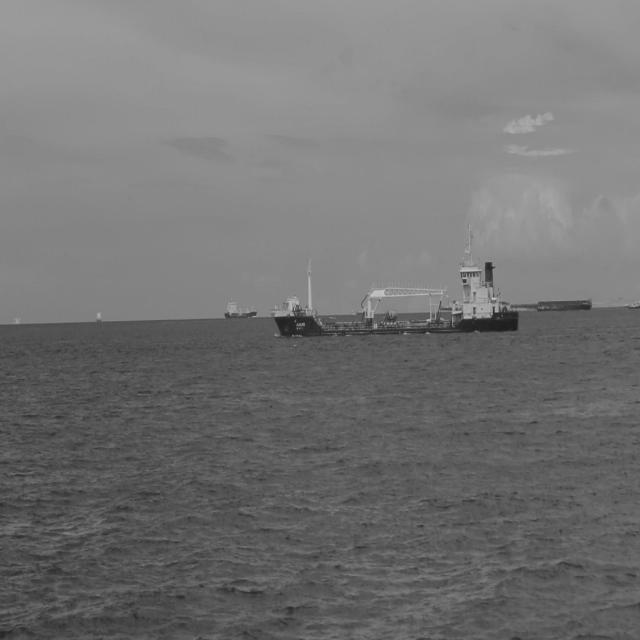ship: (274, 212, 524, 346), (219, 288, 258, 325), (536, 296, 594, 314)
